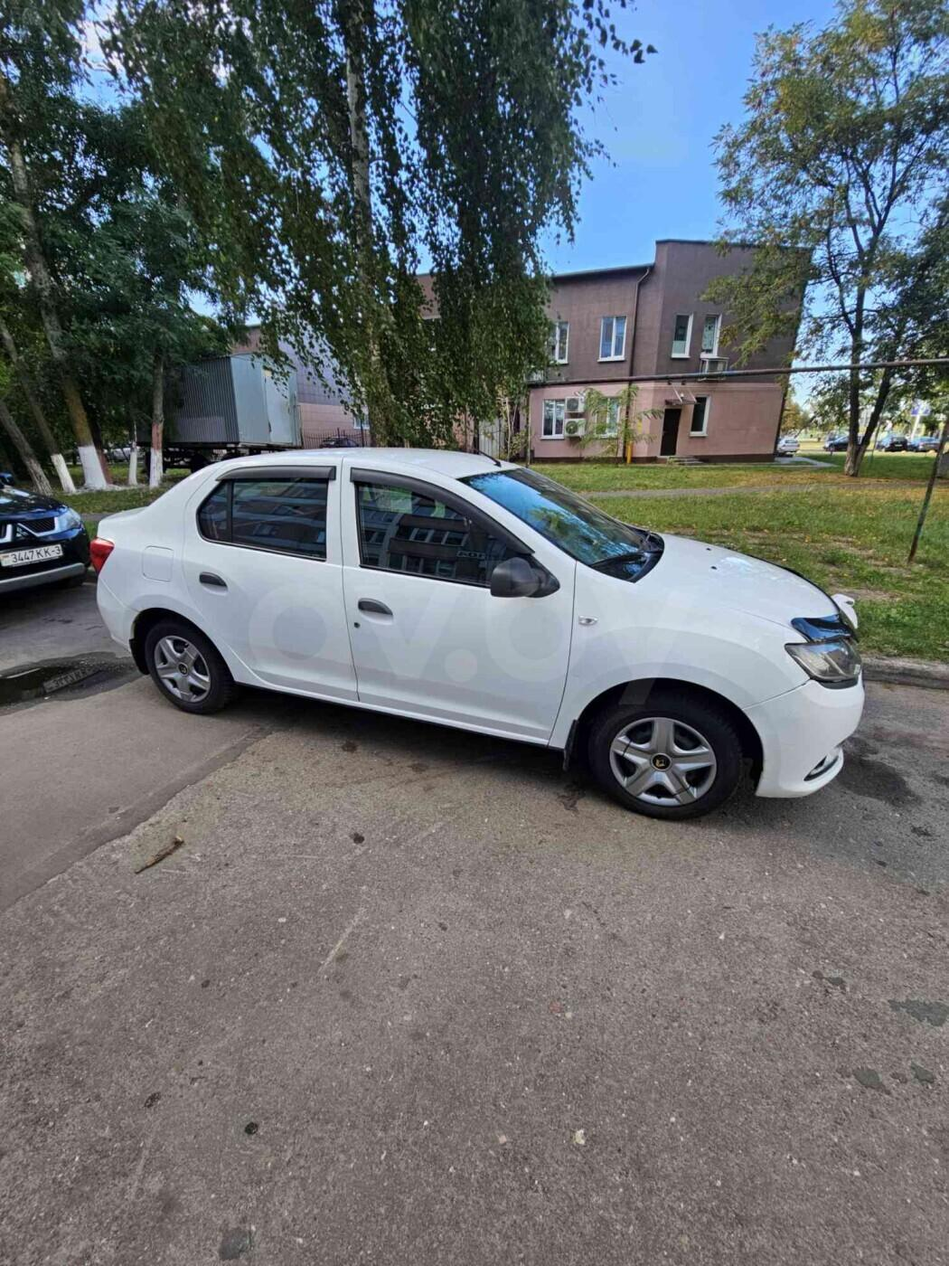Logan_2013-2018: (76, 450, 869, 828)
